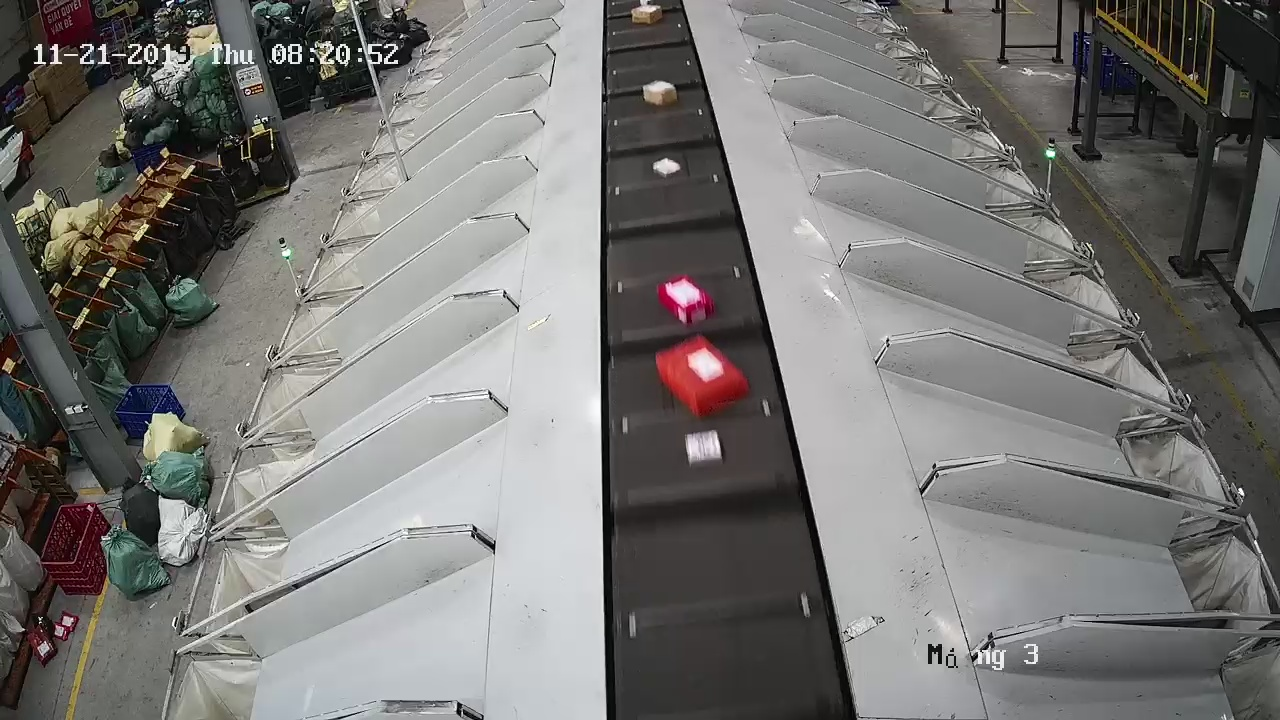parcel: (683, 428, 727, 471)
